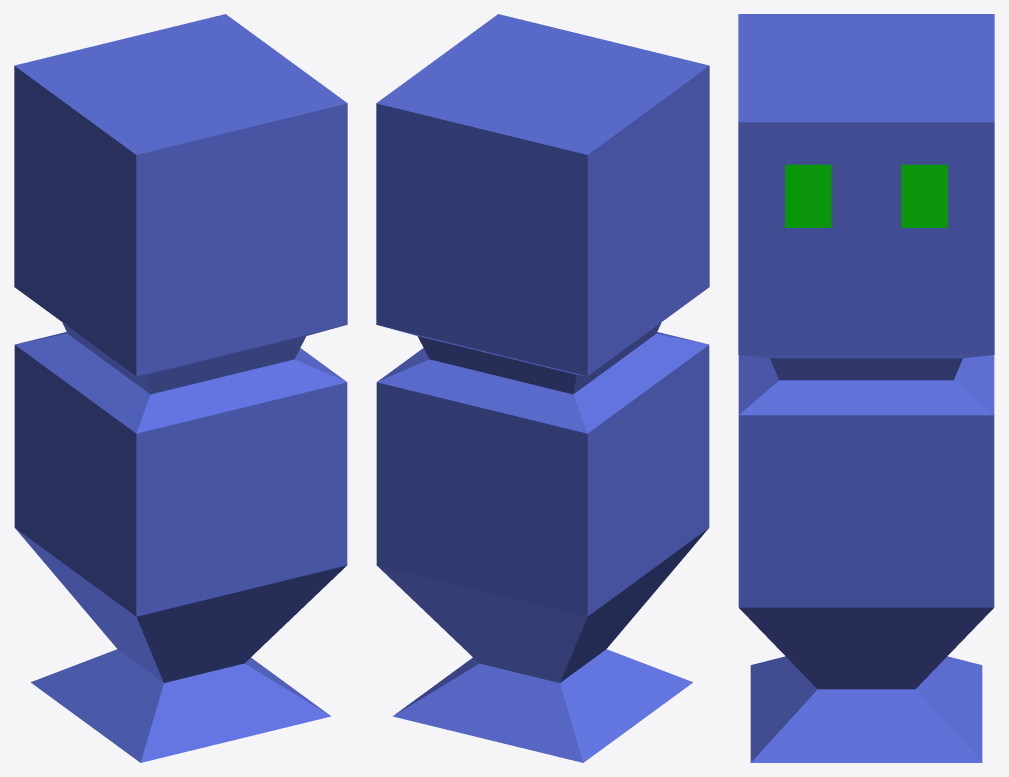
File: GravBot2.fbx
The picture shows the model from 3 angles, left to right: view 1: azimuth 30°, elevation 25°; view 2: azimuth 150°, elevation 25°; view 3: azimuth 270°, elevation 25°; orthographic projection. The views are drawn at different scales.
Visible parts, largest first — view 1: Cube; view 2: Cube; view 3: Cube.
Boxes of the visible parts, left/top/right/bottom form: Cube: left=14, top=14, right=347, bottom=762; Cube: left=376, top=14, right=709, bottom=762; Cube: left=738, top=14, right=994, bottom=762.
Size of the model in its own units: 200 by 556 by 200.
